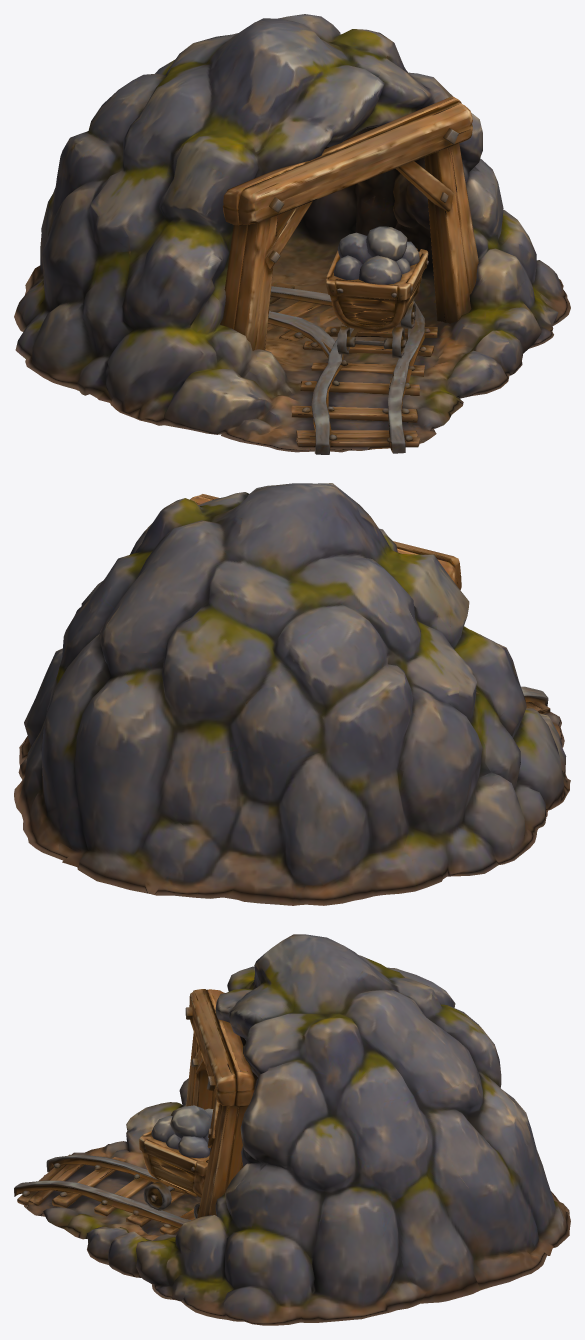
The model's file is mine.glb.
3 views of the same model, one above another, from view 1: azimuth 30°, elevation 25°; view 2: azimuth 150°, elevation 25°; view 3: azimuth 270°, elevation 25° (orthographic). The views are drawn at different scales.
Parts seen in each view (by area): view 1: geometry_0; view 2: geometry_0; view 3: geometry_0.
Boxes of the visible parts, box(x1,y1,x2,y2) form: geometry_0: box(14, 14, 570, 454); geometry_0: box(14, 483, 570, 905); geometry_0: box(14, 934, 570, 1325).
Size of the model in its own units: 0.8784 by 0.5127 by 0.9531.
Materials: 1 (1 with a texture image).
